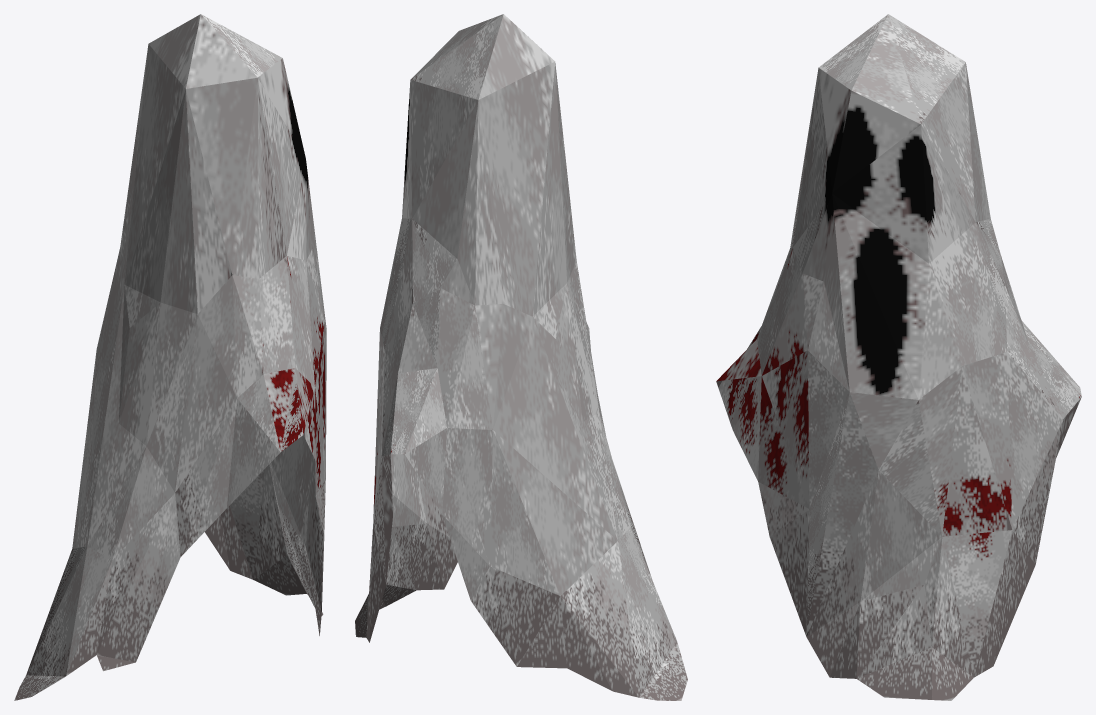
File: ghost.obj
3 renders of one model, left to right at view 1: azimuth 30°, elevation 25°; view 2: azimuth 150°, elevation 25°; view 3: azimuth 270°, elevation 25°, orthographic.
Visible parts, largest first — view 1: Ghost; view 2: Ghost; view 3: Ghost.
Boxes of the visible parts, box(x1,y1,x2,y2) form: Ghost: box(14, 14, 326, 700); Ghost: box(355, 14, 687, 700); Ghost: box(716, 14, 1081, 700).
Size of the model in its own units: 1.01 by 2 by 1.03.
